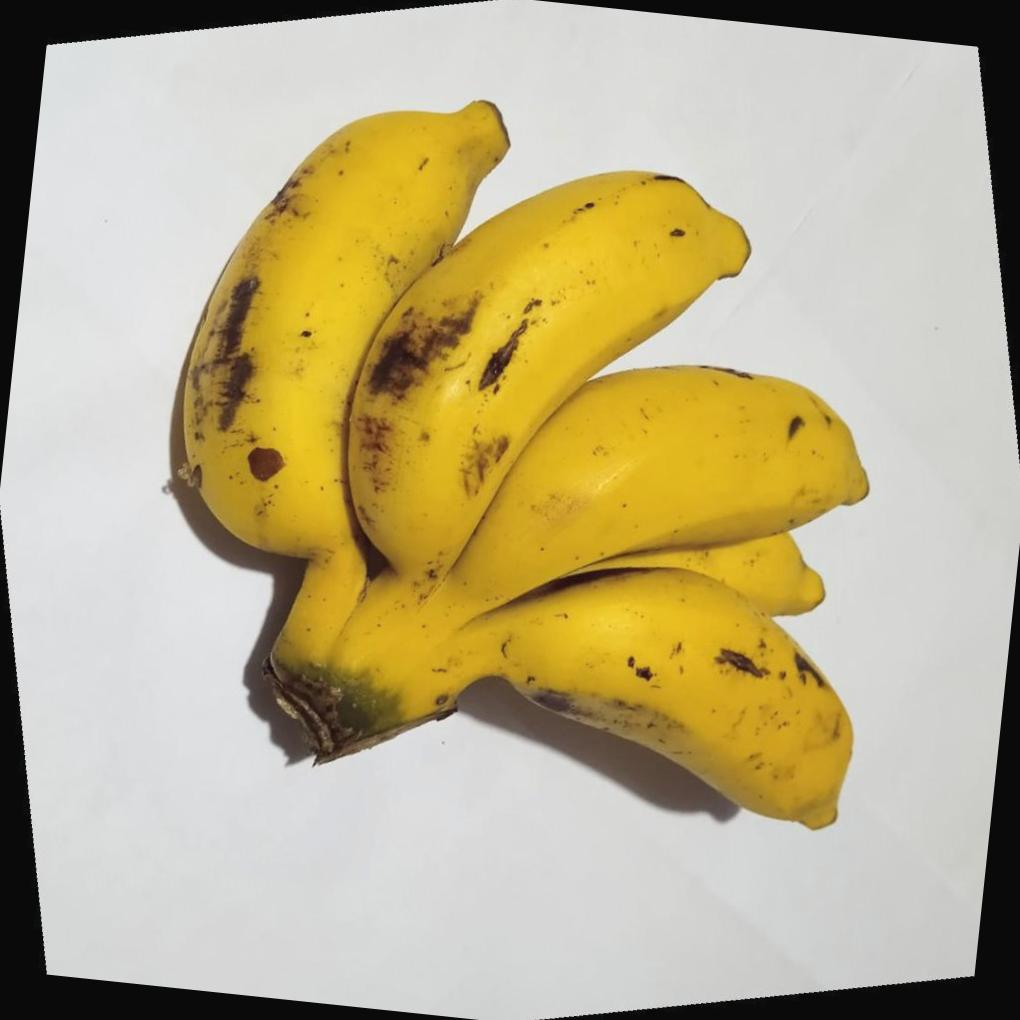Banana Ripe: (141, 69, 941, 864), (408, 310, 912, 861), (320, 125, 762, 660), (147, 82, 527, 696), (472, 540, 888, 850)
